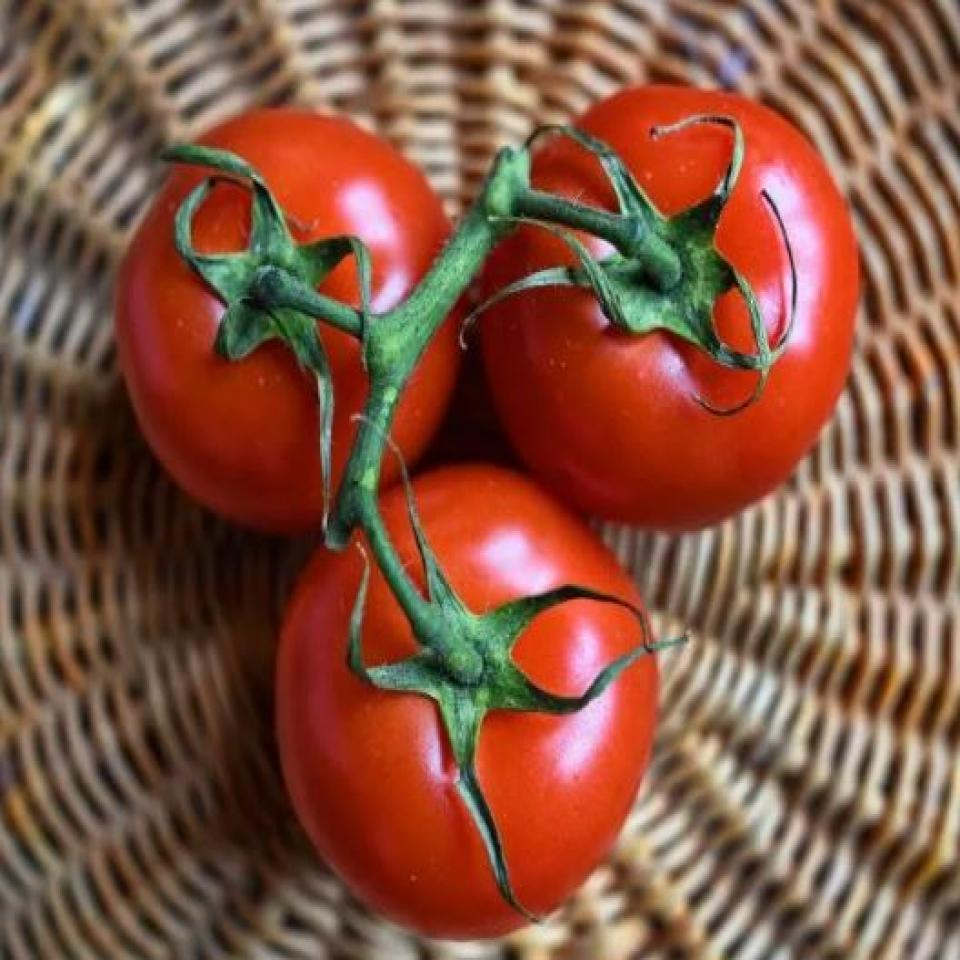Healthy: (287, 428, 676, 931), (101, 91, 469, 508)
